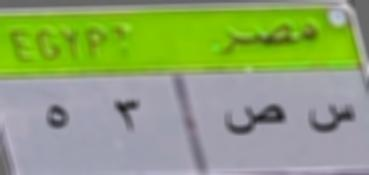3: (111, 94, 146, 138)
5: (38, 102, 76, 137)
saad: (219, 94, 288, 146)
seen: (302, 102, 360, 139)
